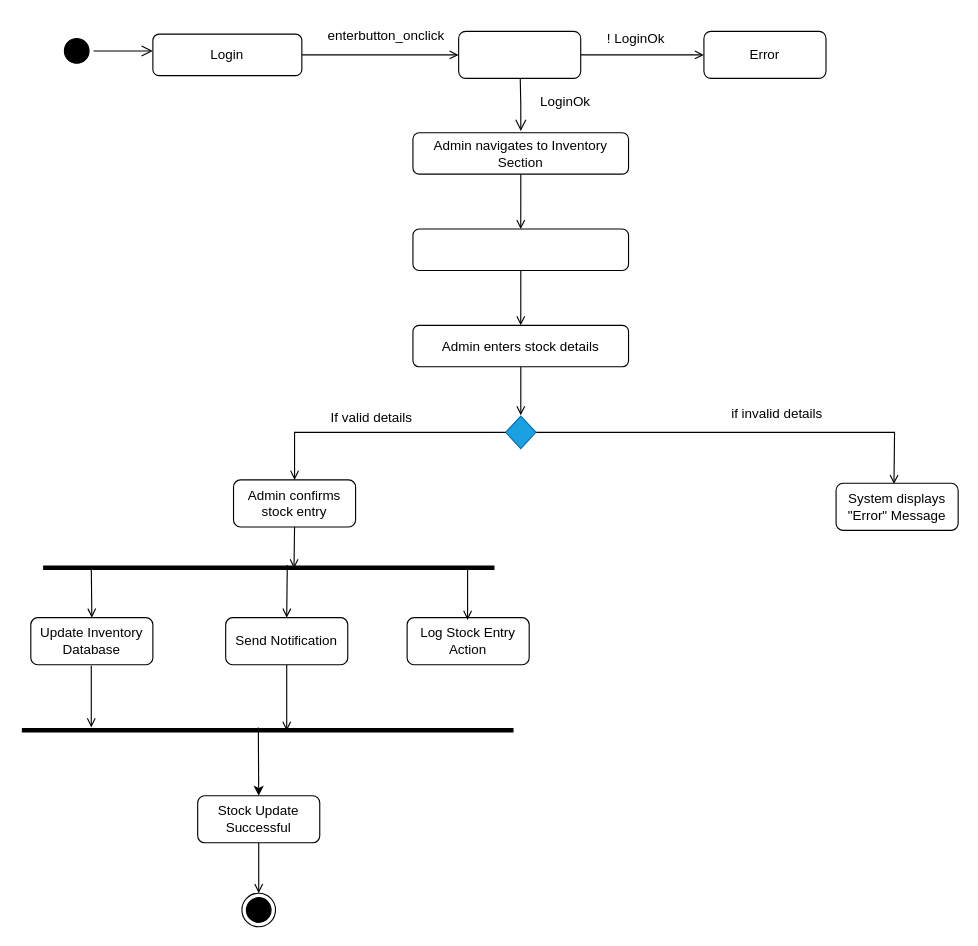
This 978x946 diagram has some shape labels left out. The box of each missing label's shape, as (x1, y1, x2, y2) in pixels:
Admin selects "Add New Stock": (412, 228, 629, 270)
Validate Login: (458, 30, 581, 78)
